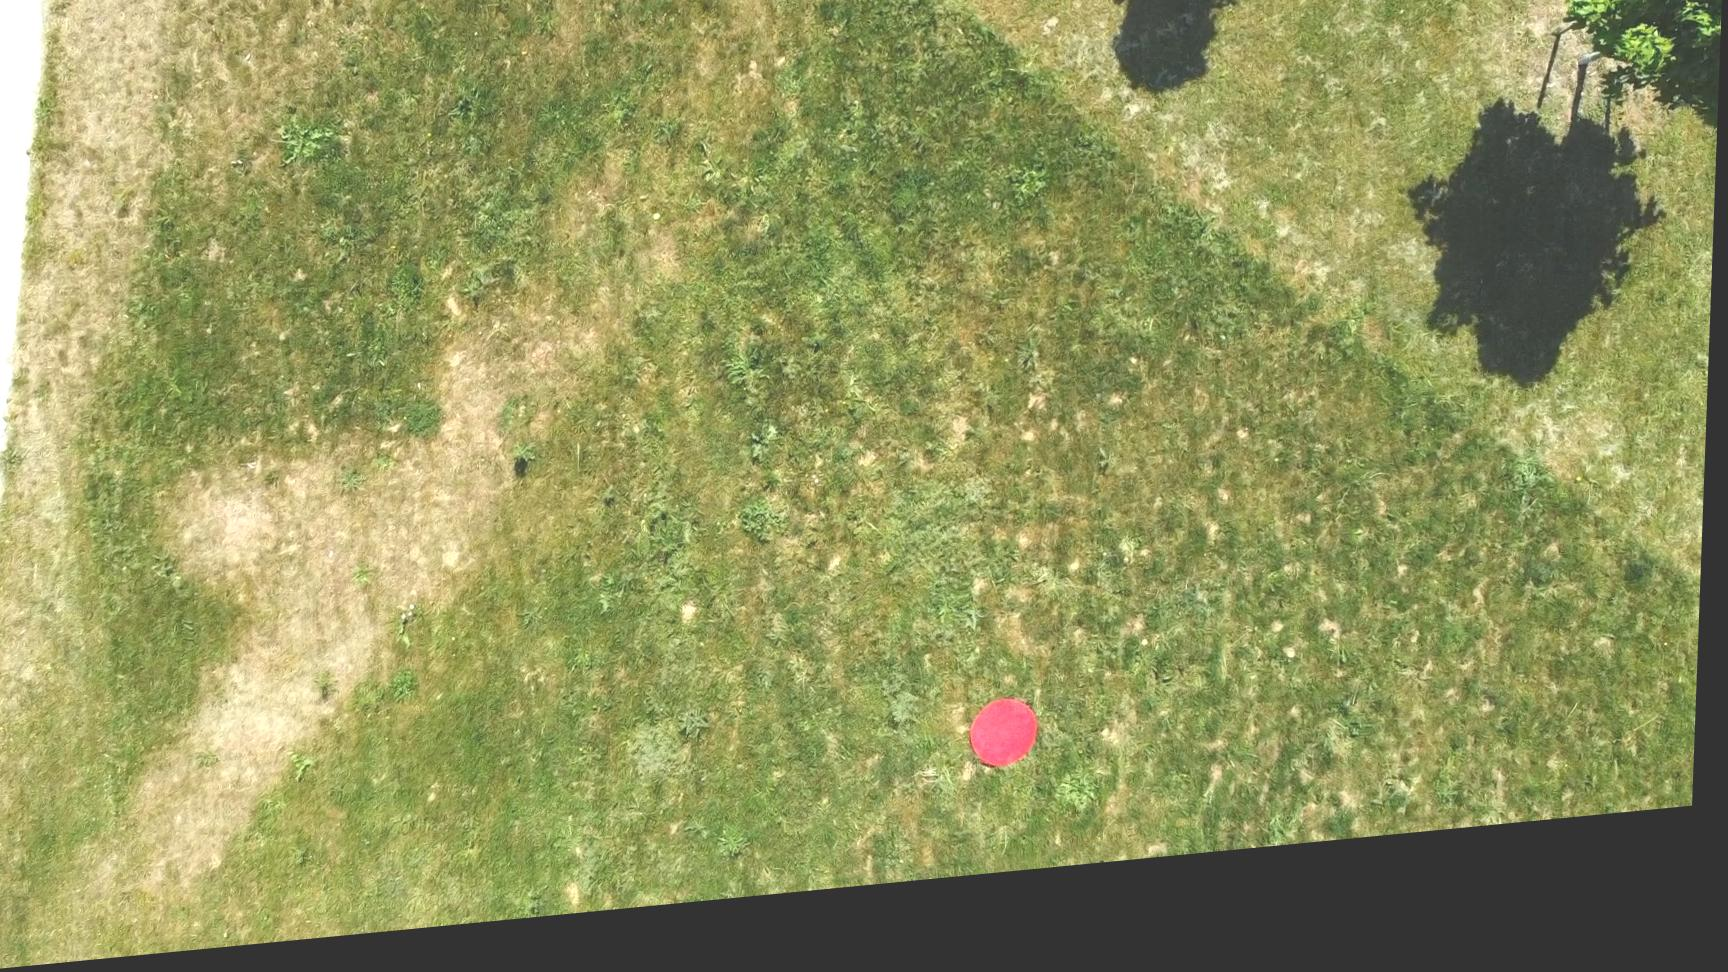Red: (972, 714, 1049, 793)
